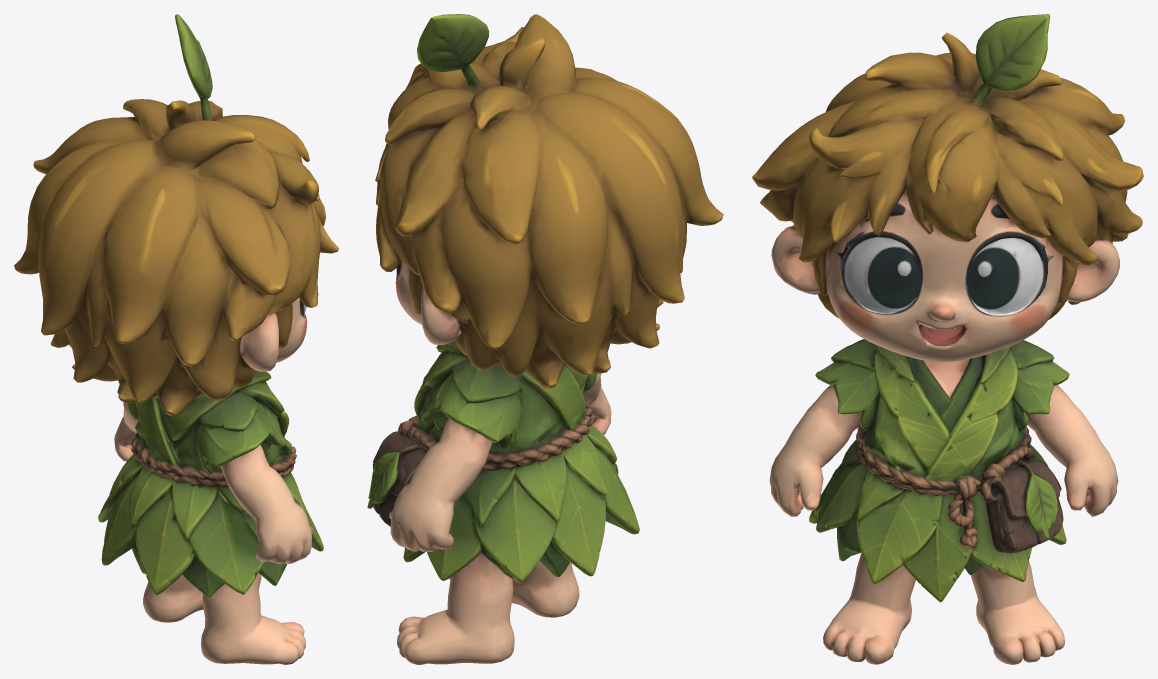
The model's file is cognition-1.glb.
3 views of the same model, side by side, from view 1: azimuth 30°, elevation 25°; view 2: azimuth 150°, elevation 25°; view 3: azimuth 270°, elevation 25° (orthographic). The views are drawn at different scales.
Visible parts, largest first — view 1: tripo_node_16e5b4c8-c9b5-46bd-8b56-54c7450ea569; view 2: tripo_node_16e5b4c8-c9b5-46bd-8b56-54c7450ea569; view 3: tripo_node_16e5b4c8-c9b5-46bd-8b56-54c7450ea569.
Boxes of the visible parts, <box> form: tripo_node_16e5b4c8-c9b5-46bd-8b56-54c7450ea569: <box>14,14,338,664</box>; tripo_node_16e5b4c8-c9b5-46bd-8b56-54c7450ea569: <box>367,14,723,664</box>; tripo_node_16e5b4c8-c9b5-46bd-8b56-54c7450ea569: <box>752,14,1143,664</box>.
Bounding box in the file's own units: 0.4589 × 0.9805 × 0.5518.
1 material, 1 textured.
